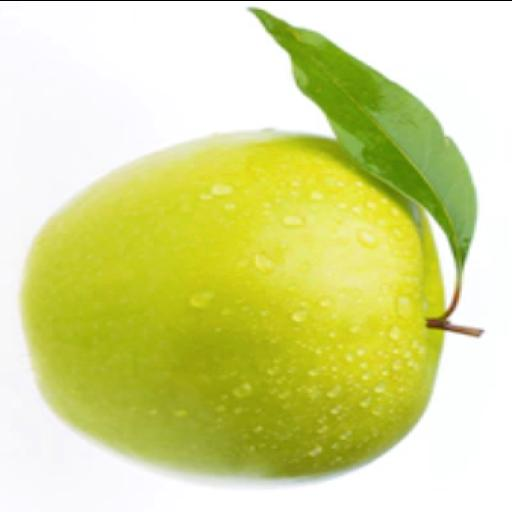apple: (22, 131, 442, 481)
